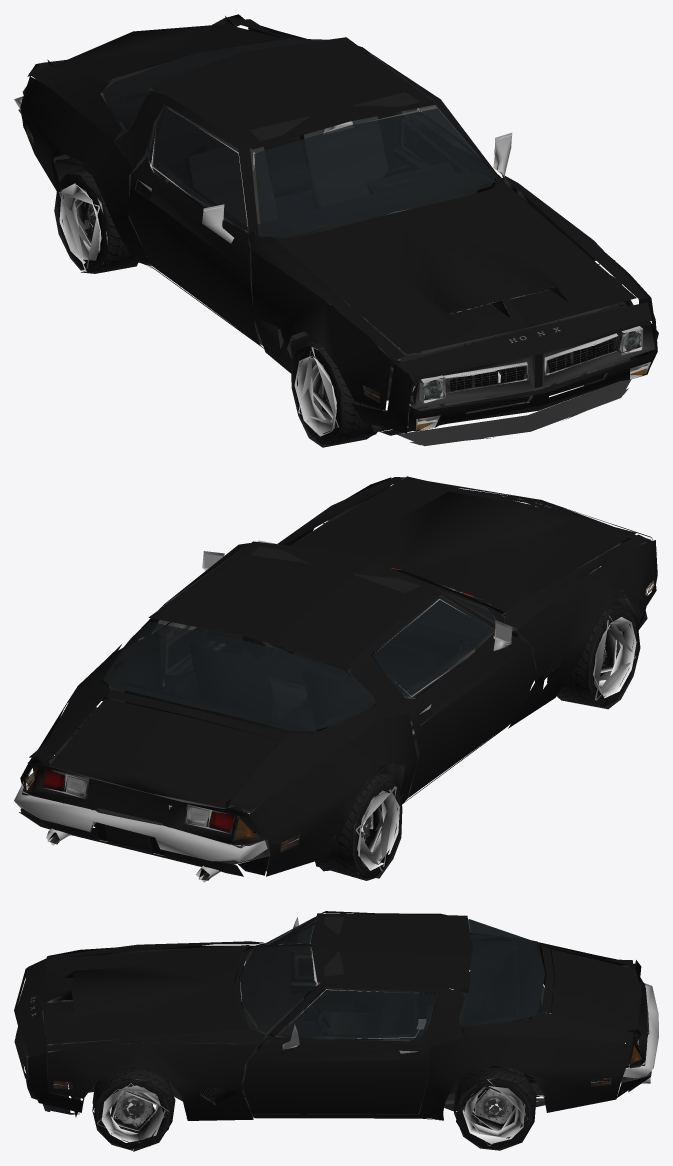
File: phoenix-455-71-lite.glb
3 renders of one model, top to bottom at view 1: azimuth 30°, elevation 25°; view 2: azimuth 150°, elevation 25°; view 3: azimuth 270°, elevation 25°, orthographic. The views are drawn at different scales.
Parts seen in each view (by area): view 1: Phoenix445_Blinkers_UCB_Lights_and_Glass_0; view 2: Phoenix445_Blinkers_UCB_Lights_and_Glass_0; view 3: Phoenix445_Blinkers_UCB_Lights_and_Glass_0.
Part boxes in pixels (x1=…): Phoenix445_Blinkers_UCB_Lights_and_Glass_0: x1=14, y1=14, x2=658, y2=447; Phoenix445_Blinkers_UCB_Lights_and_Glass_0: x1=14, y1=476, x2=657, y2=882; Phoenix445_Blinkers_UCB_Lights_and_Glass_0: x1=14, y1=911, x2=658, y2=1151.
Bounding box in the file's own units: 1.91 × 1.21 × 4.5.
8 materials, 7 textured.
